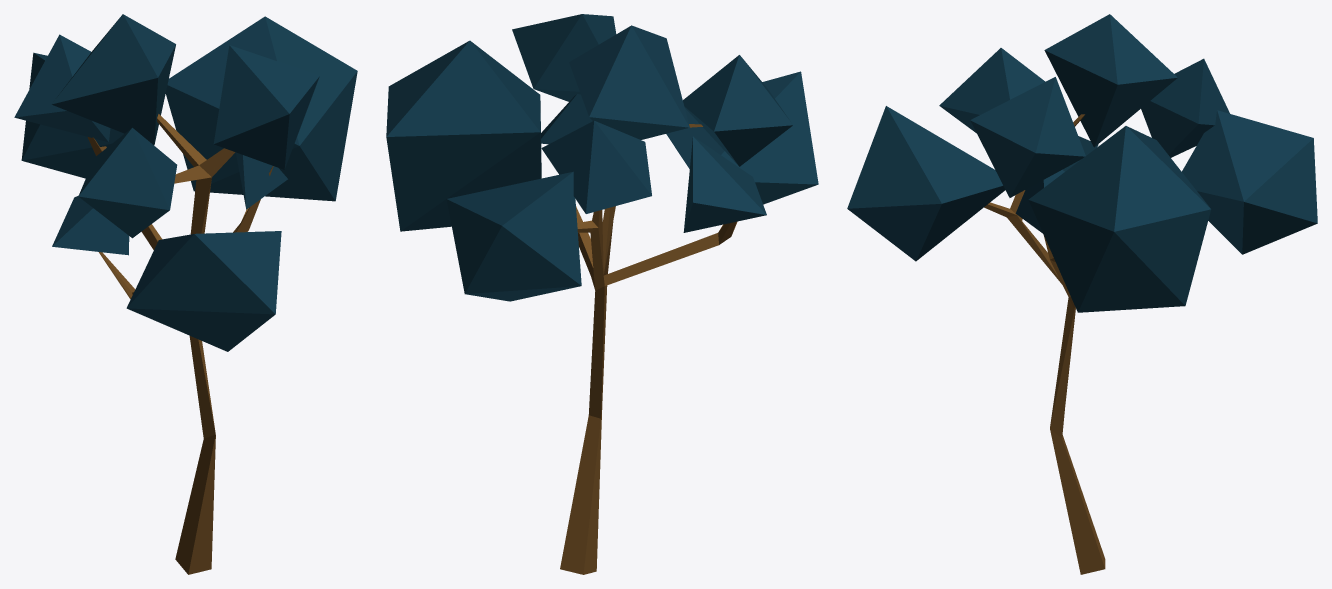
File: treesDepression.fbx
The picture shows the model from 3 angles, left to right: view 1: azimuth 30°, elevation 25°; view 2: azimuth 150°, elevation 25°; view 3: azimuth 270°, elevation 25°; orthographic projection. The views are drawn at different scales.
Parts seen in each view (by area): view 1: tree; view 2: tree; view 3: tree.
Boxes of the visible parts, <box> form: tree: <box>14,14,357,574</box>; tree: <box>386,14,818,574</box>; tree: <box>847,14,1317,574</box>.
Bounding box in the file's own units: 405 × 640 × 518.
